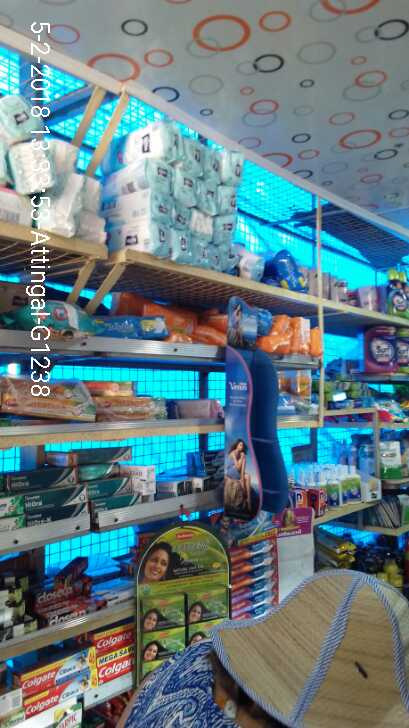reject: (158, 310, 267, 392)
